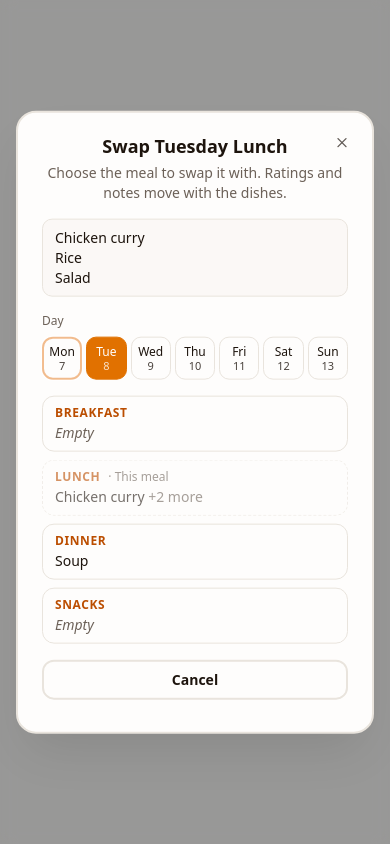
Test: meal swap dialog › stays open and shows the problem when the swap fails (thrown)
Click the button "Dinner Soup" at (81, 540), box [42, 523, 348, 579]
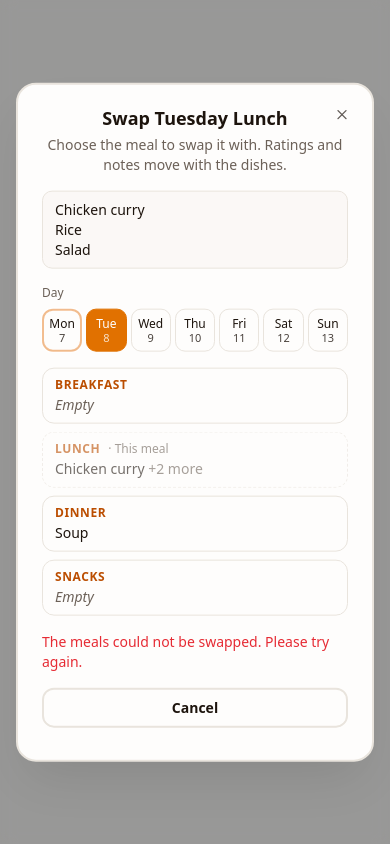
Expected: the heading "Swap Tuesday Lunch" is shown, [102, 106, 288, 130]
Now the message reads "The meals could not be swapped. Please try again.", box [42, 631, 329, 670]
